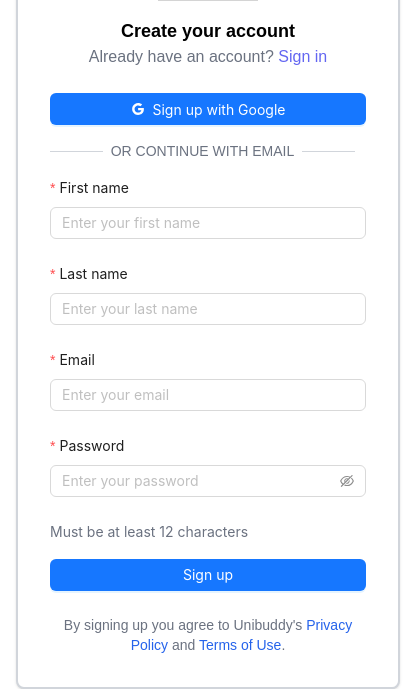
Test: SignupForm Component › should show validation messages when required fields are not filled
(page scrolled)
Click the button "Sign up" at {"x": 208, "y": 575}, box [50,559,366,591]
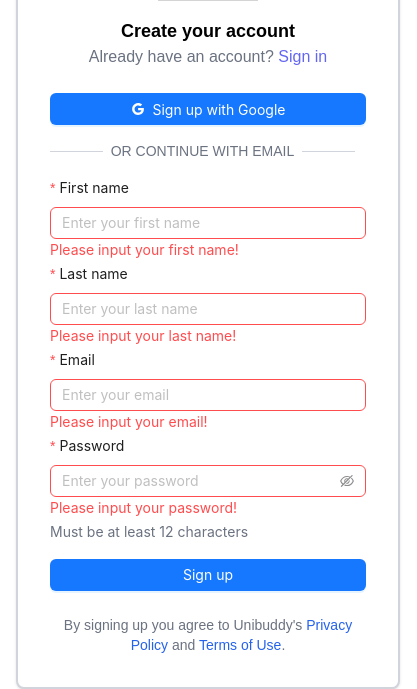
Now the text "Please input your first name!" is shown, box [50,241,239,258]
Now the text "Please input your last name!" is shown, box [50,327,236,344]
Now the text "Please input your email!" is shown, box [50,413,208,430]
